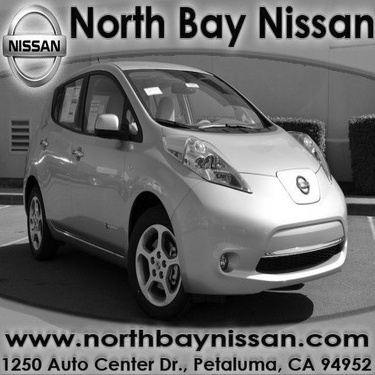car: (13, 56, 355, 317)
